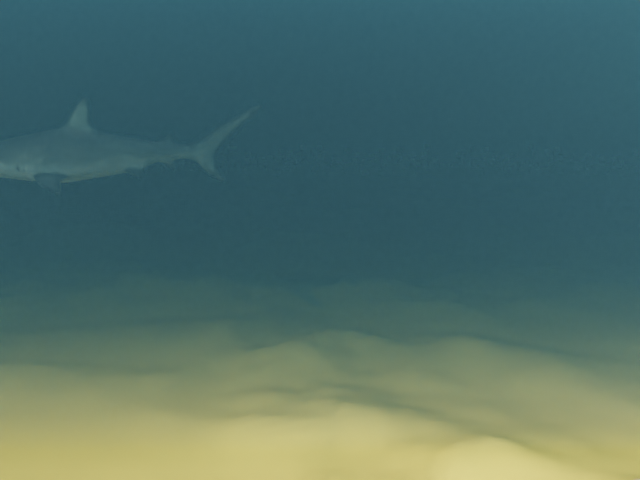Carribean Shark.001: (0, 97, 261, 193)
